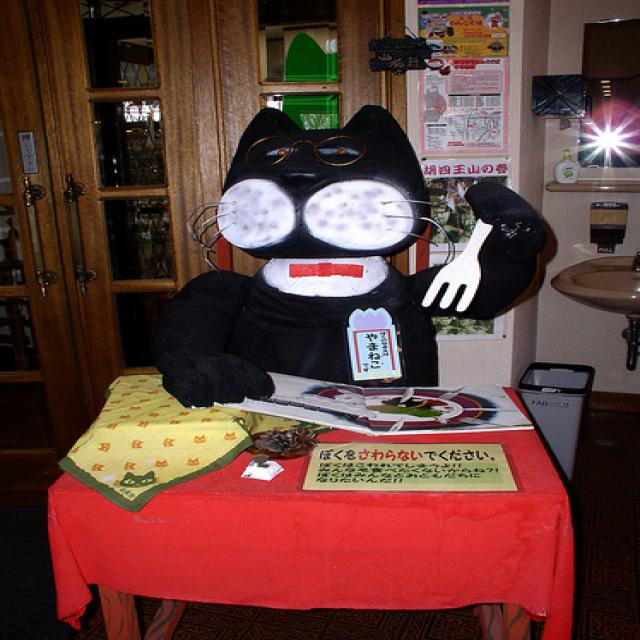diningtable: (47, 386, 576, 640)
